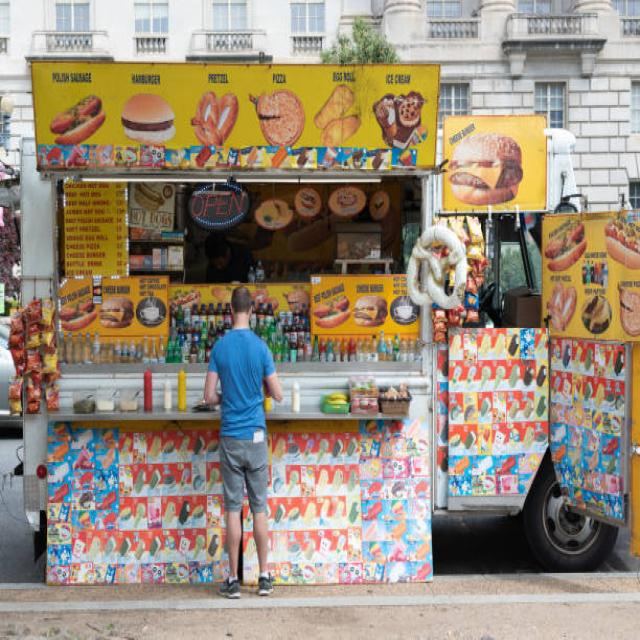Emperan: (0, 29, 454, 615), (434, 91, 640, 583)
